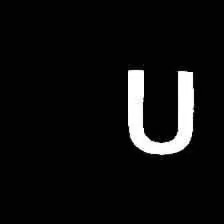LTR_U: (115, 60, 202, 160)
